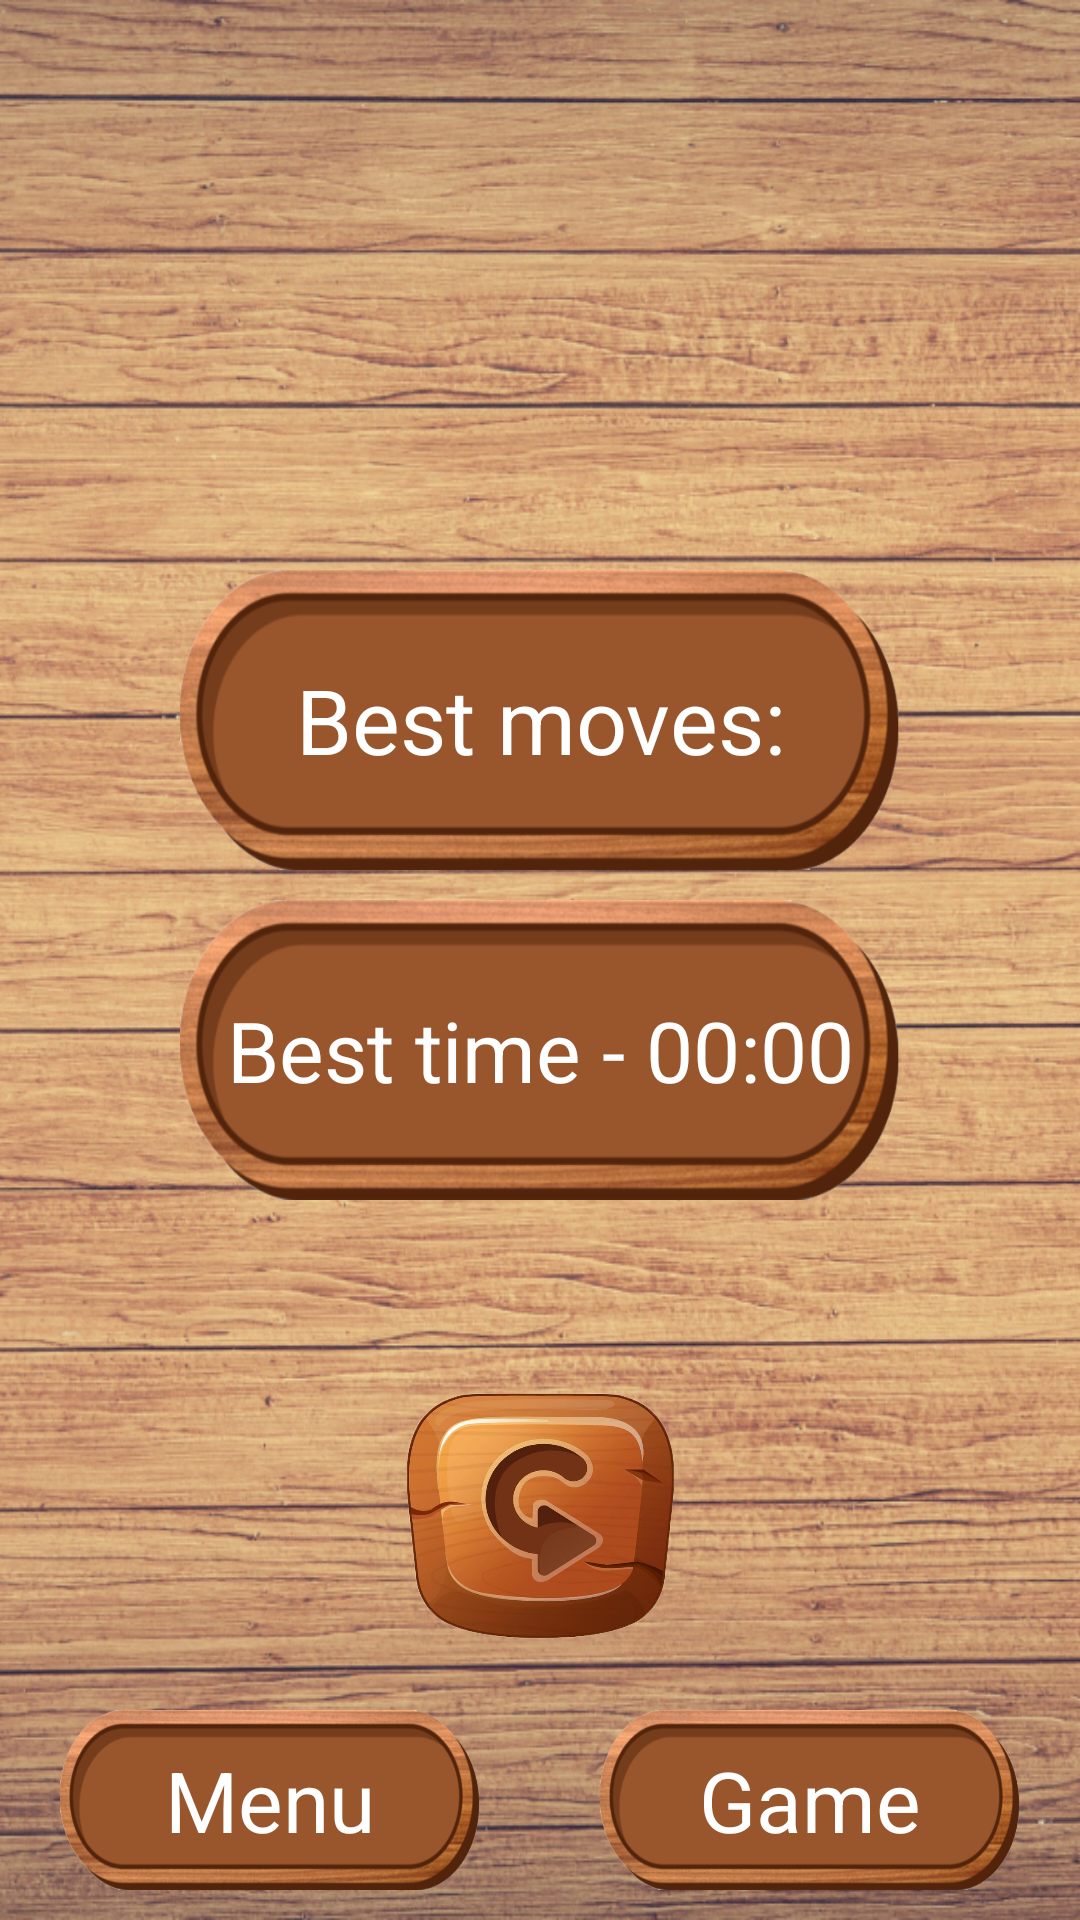

Point at icon controls on the screen. Image size 1080x1920, points as point (x, y).
refresh: point (540, 1515)
